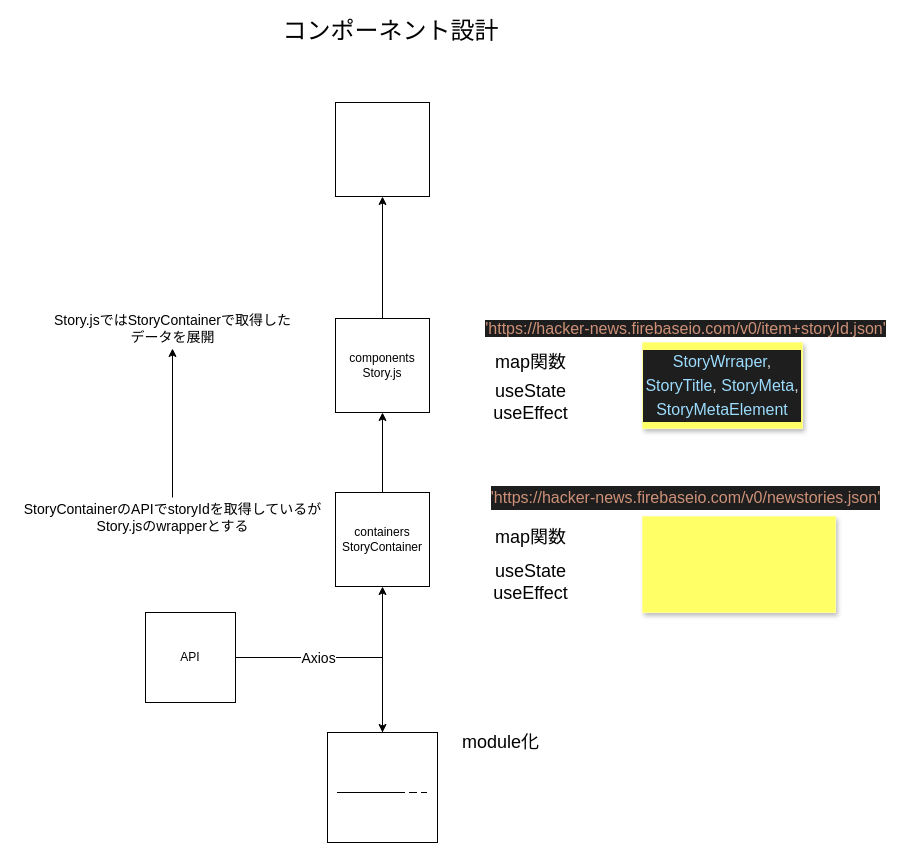
Some shapes in this 912 by 860 pixel diagram are drawn without their labels. The centre of each missing label's shape, as x and y in pixels:
"App.js" belongs at (x=382, y=149).
"GlobalStyle , StoriesContainerWrapper" belongs at (x=740, y=566).
